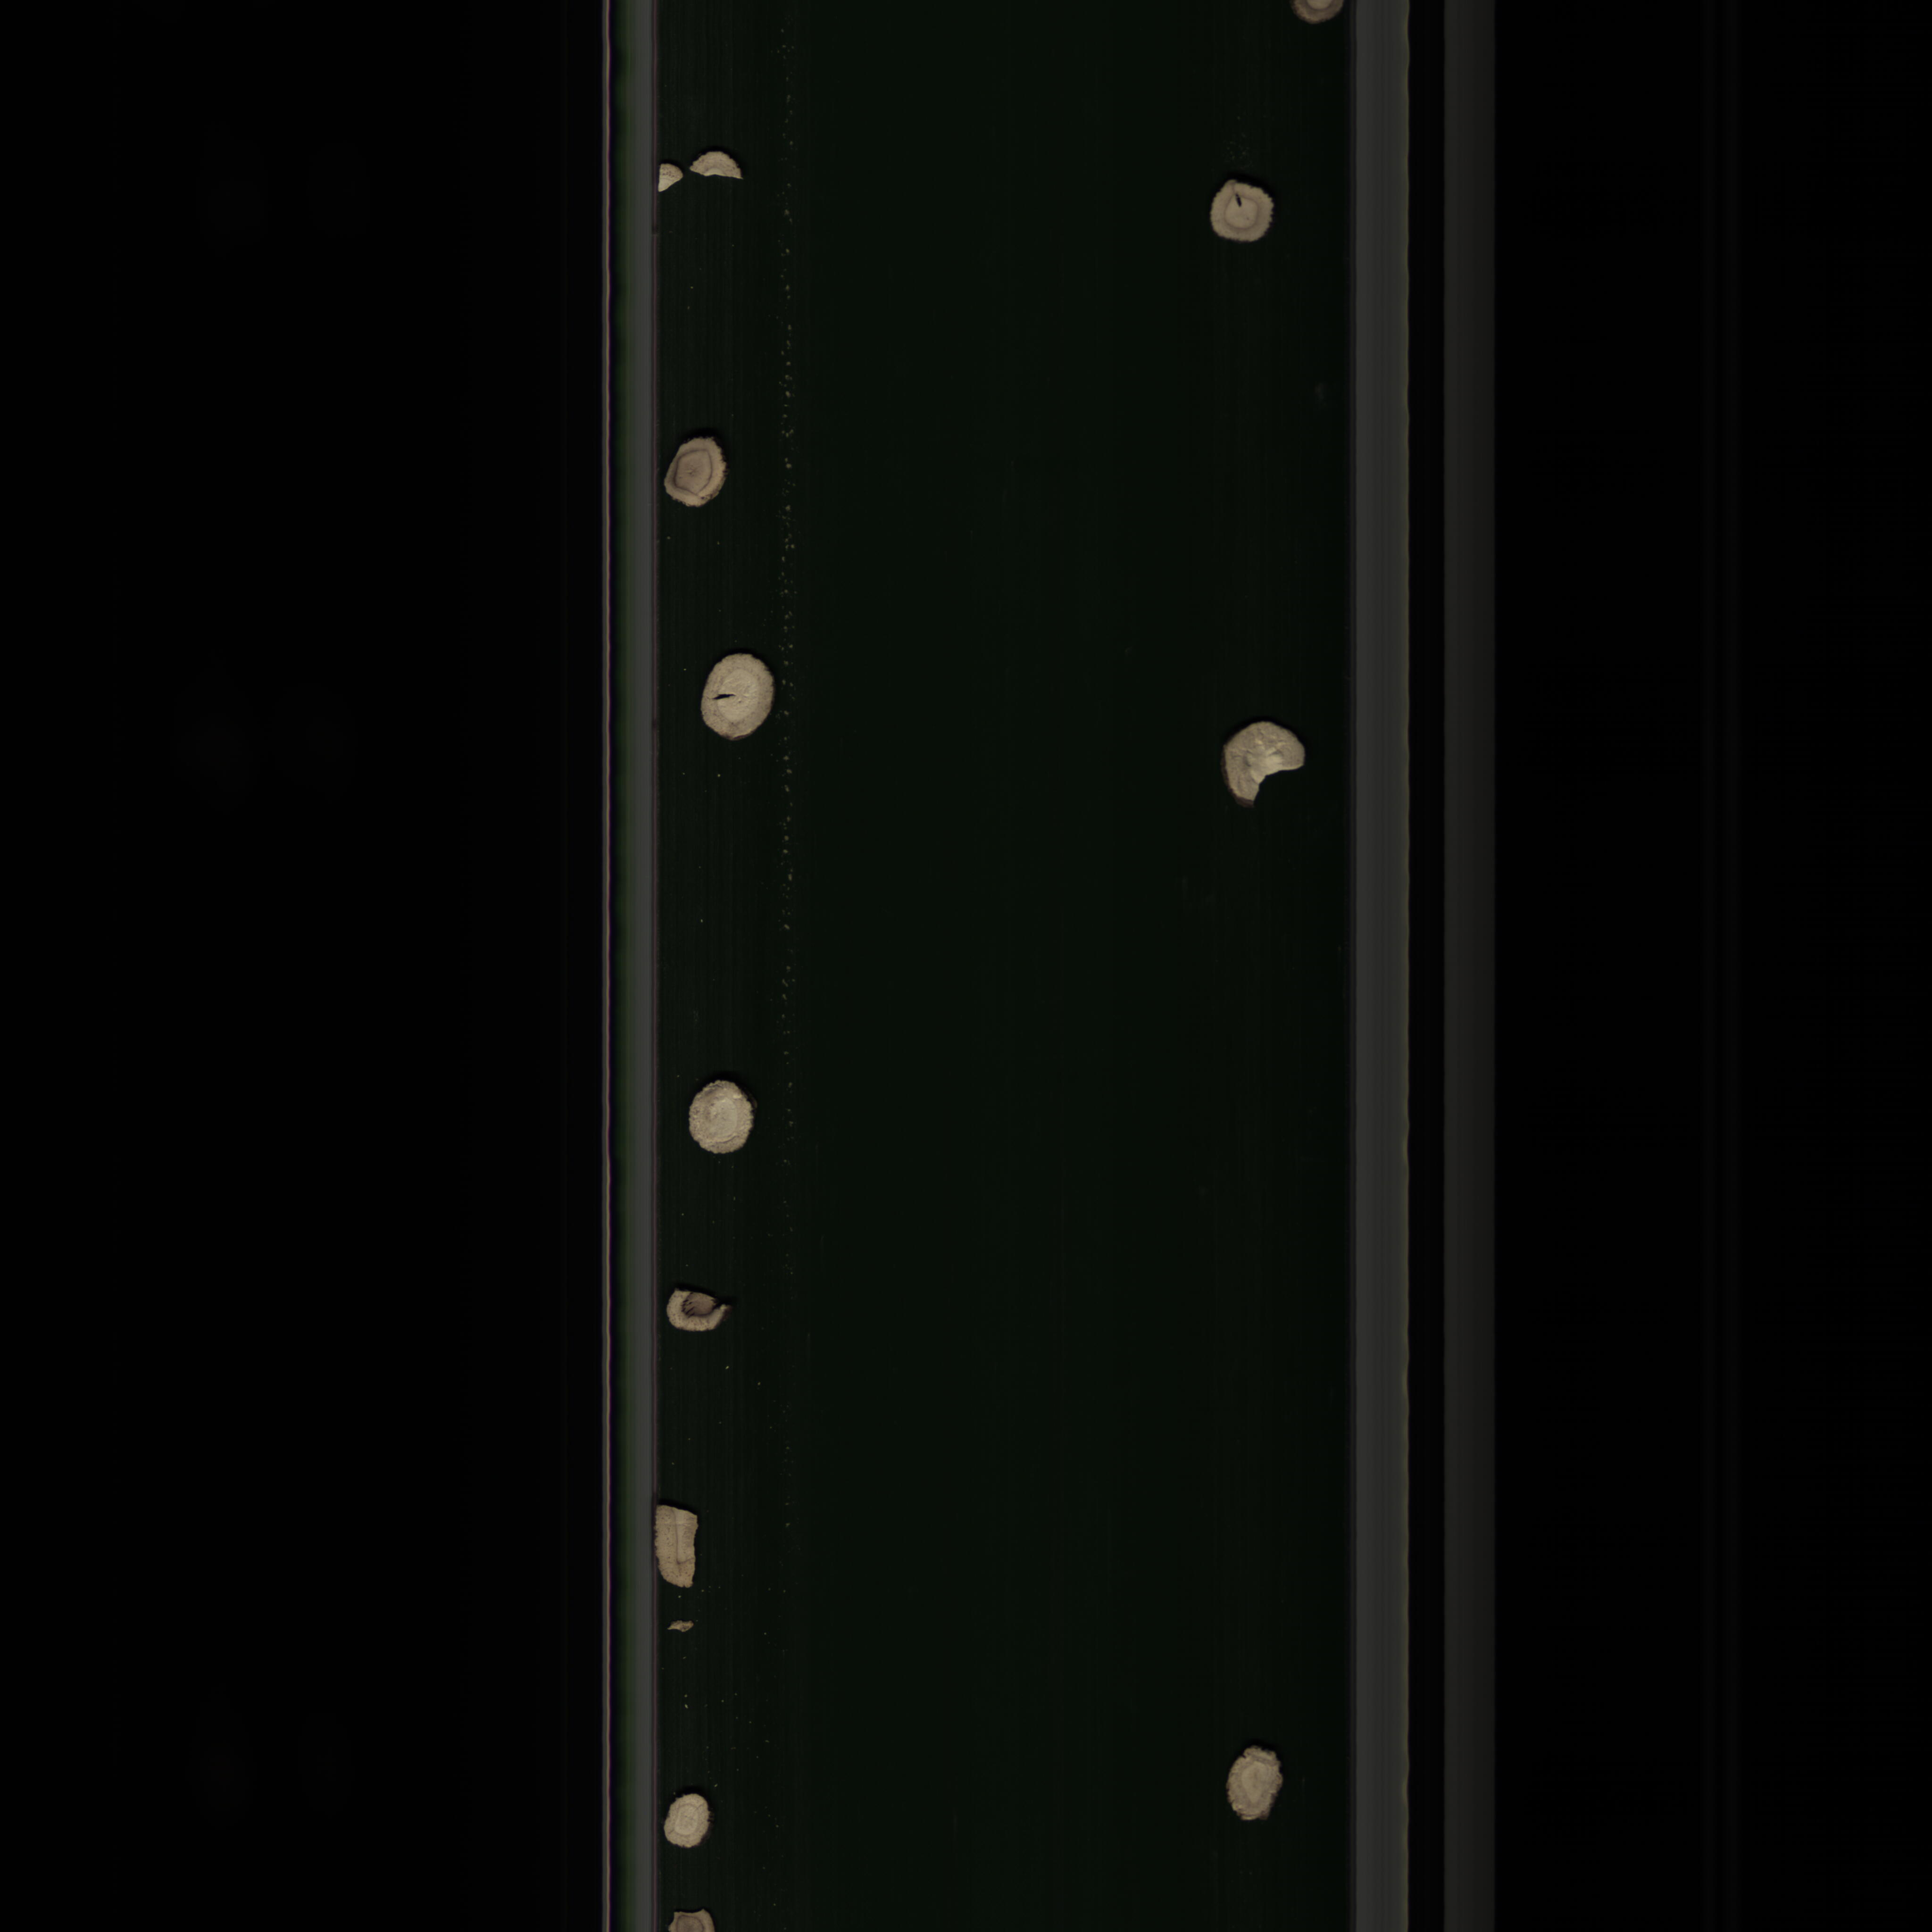debris: (1217, 715, 1313, 807), (648, 1502, 713, 1601), (688, 147, 748, 188), (656, 157, 683, 191)
hole: (692, 649, 782, 747), (1200, 175, 1281, 248)
moldy: (660, 433, 741, 511), (663, 1281, 734, 1341)
